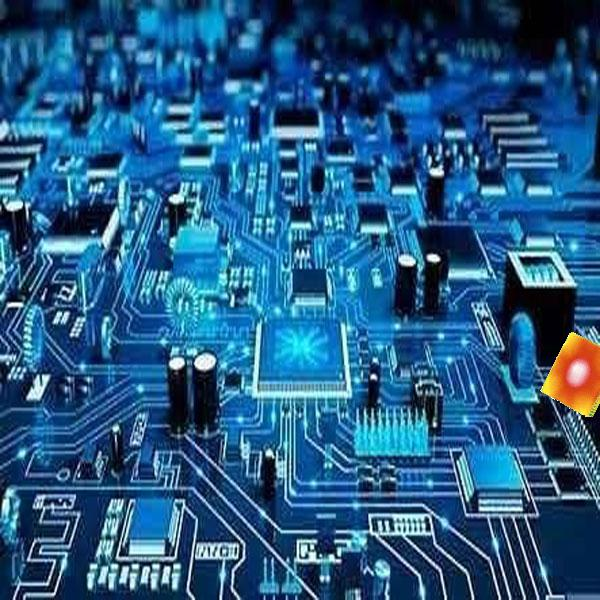componente_T: (539, 330, 600, 420)
